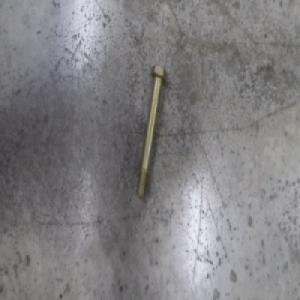Bolt: (136, 63, 168, 199)
